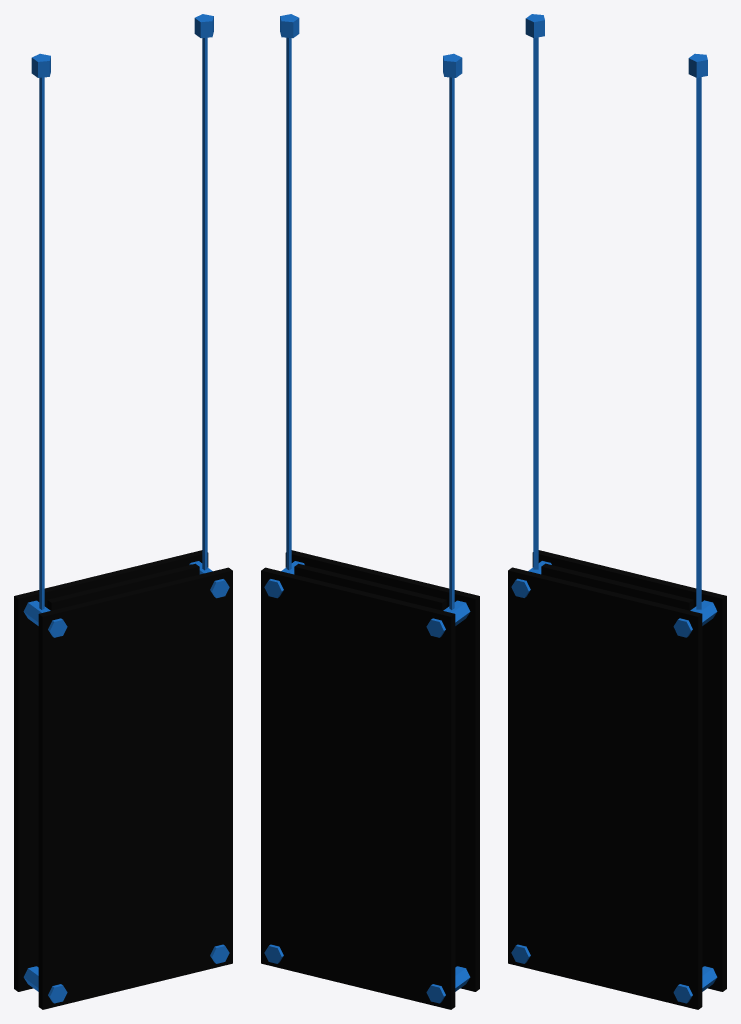
File: SM_glass_stand.fbx
The picture shows the model from 3 angles, left to right: view 1: azimuth 30°, elevation 25°; view 2: azimuth 150°, elevation 25°; view 3: azimuth 330°, elevation 25°; orthographic projection.
Parts seen in each view (by area): view 1: glass_stand; view 2: glass_stand; view 3: glass_stand.
Boxes of the visible parts, box(x1,y1,x2,y2) form: glass_stand: box(14, 14, 232, 1009); glass_stand: box(261, 14, 479, 1009); glass_stand: box(508, 14, 726, 1009).
Size of the model in its own units: 57.83 by 273 by 17.21.
